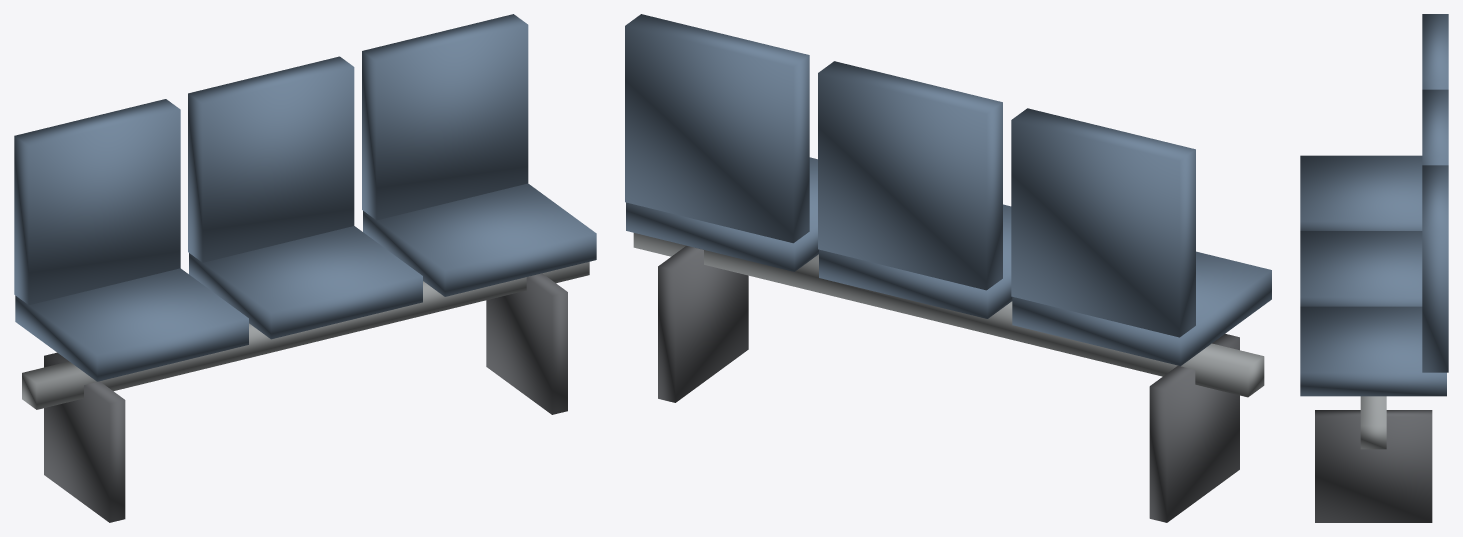
File: waiting_chair_beam_row.glb
The picture shows the model from 3 angles, left to right: view 1: azimuth 30°, elevation 25°; view 2: azimuth 150°, elevation 25°; view 3: azimuth 270°, elevation 25°; orthographic projection. The views are drawn at different scales.
Parts seen in each view (by area): view 1: world; view 2: world; view 3: world.
Part boxes in pixels (x1=…): world: x1=14, y1=14, x2=596, y2=522; world: x1=625, y1=14, x2=1271, y2=522; world: x1=1300, y1=14, x2=1448, y2=522.
Size of the model in its own units: 1.75 by 1.02 by 0.455.
